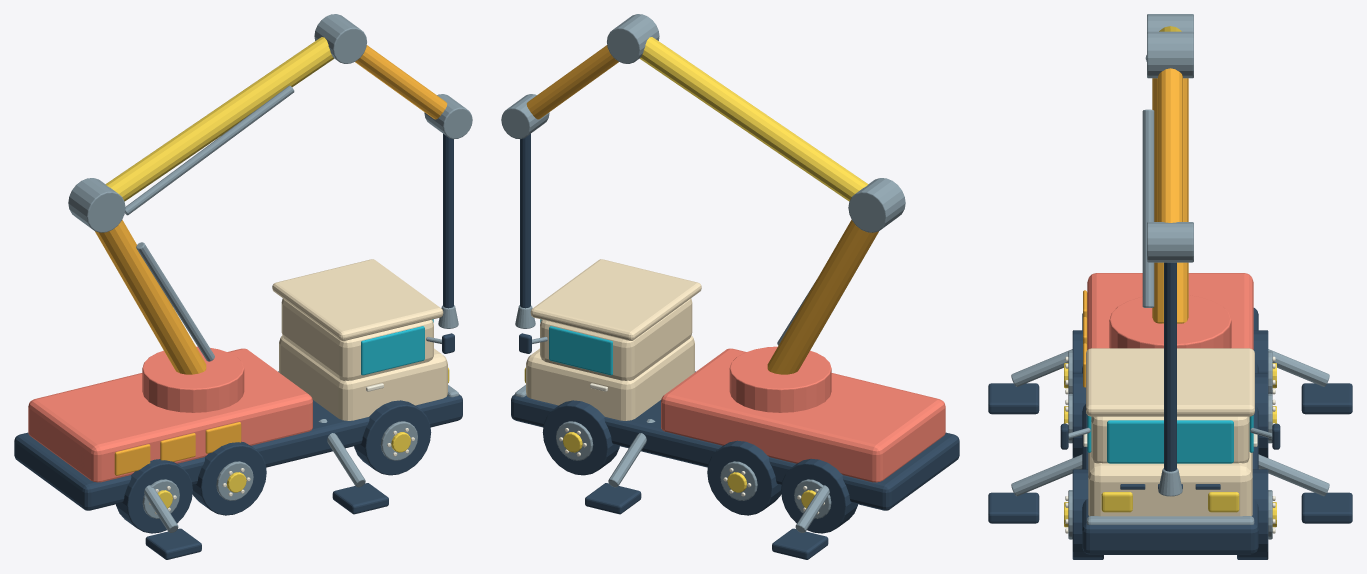
File: SM_PumpTruck.fbx
3 views of the same model, side by side, from view 1: azimuth 30°, elevation 25°; view 2: azimuth 150°, elevation 25°; view 3: azimuth 270°, elevation 25° (orthographic). The views are drawn at different scales.
Parts seen in each view (by area): view 1: Pump equipment bed, Cab roof, Heavy chassis, Cab lower body, Hydraulic boom 1, Hydraulic boom 0, Rotating turret, Cab upper body, Chunky tire.004, Chunky tire.002, Chunky tire, Boom pivot (+17 smaller); view 2: Pump equipment bed, Cab roof, Heavy chassis, Hydraulic boom 1, Cab lower body, Hydraulic boom 0, Rotating turret, Cab upper body, Chunky tire.005, Chunky tire.003, Chunky tire.001, Boom pivot (+12 smaller); view 3: Cab roof, Cab lower body, Heavy chassis, Pump equipment bed, Front windshield, Rotating turret, Hydraulic boom 2, Hydraulic boom 0, Flexible concrete hose, Hydraulic piston, Cab upper body, Boom pivot.001 (+20 smaller).
Part boxes in pixels (left/top/right/bottom): Pump equipment bed: left=28, top=348, right=312, bottom=482; Cab roof: left=272, top=259, right=443, bottom=340; Heavy chassis: left=14, top=371, right=462, bottom=510; Cab lower body: left=279, top=335, right=447, bottom=420; Hydraulic boom 1: left=105, top=37, right=333, bottom=201; Hydraulic boom 0: left=95, top=220, right=206, bottom=374; Rotating turret: left=142, top=346, right=244, bottom=412; Cab upper body: left=281, top=298, right=433, bottom=380; Chunky tire.004: left=354, top=400, right=431, bottom=475; Chunky tire.002: left=192, top=441, right=266, bottom=515; Chunky tire: left=116, top=459, right=192, bottom=533; Boom pivot: left=68, top=178, right=125, bottom=232; Pump equipment bed: left=661, top=348, right=945, bottom=482; Cab roof: left=530, top=259, right=701, bottom=340; Heavy chassis: left=511, top=371, right=959, bottom=510; Hydraulic boom 1: left=640, top=37, right=868, bottom=201; Cab lower body: left=526, top=335, right=694, bottom=420; Hydraulic boom 0: left=767, top=220, right=878, bottom=374; Rotating turret: left=729, top=346, right=831, bottom=412; Cab upper body: left=540, top=298, right=692, bottom=380; Chunky tire.005: left=542, top=400, right=619, bottom=475; Chunky tire.003: left=707, top=440, right=781, bottom=515; Chunky tire.001: left=781, top=458, right=857, bottom=533; Boom pivot: left=848, top=178, right=905, bottom=232; Cab roof: left=1086, top=348, right=1254, bottom=416; Cab lower body: left=1088, top=452, right=1252, bottom=516; Heavy chassis: left=1082, top=308, right=1258, bottom=554; Pump equipment bed: left=1087, top=273, right=1253, bottom=349; Front windshield: left=1107, top=420, right=1233, bottom=463; Rotating turret: left=1109, top=295, right=1231, bottom=348; Hydraulic boom 2: left=1158, top=68, right=1182, bottom=222; Hydraulic boom 0: left=1152, top=78, right=1188, bottom=323; Flexible concrete hose: left=1164, top=262, right=1176, bottom=471; Hydraulic piston: left=1142, top=109, right=1154, bottom=307; Cab upper body: left=1091, top=416, right=1249, bottom=463; Boom pivot.001: left=1147, top=31, right=1193, bottom=78.
Size of the model in its own units: 7.31 by 7.21 by 4.65.
